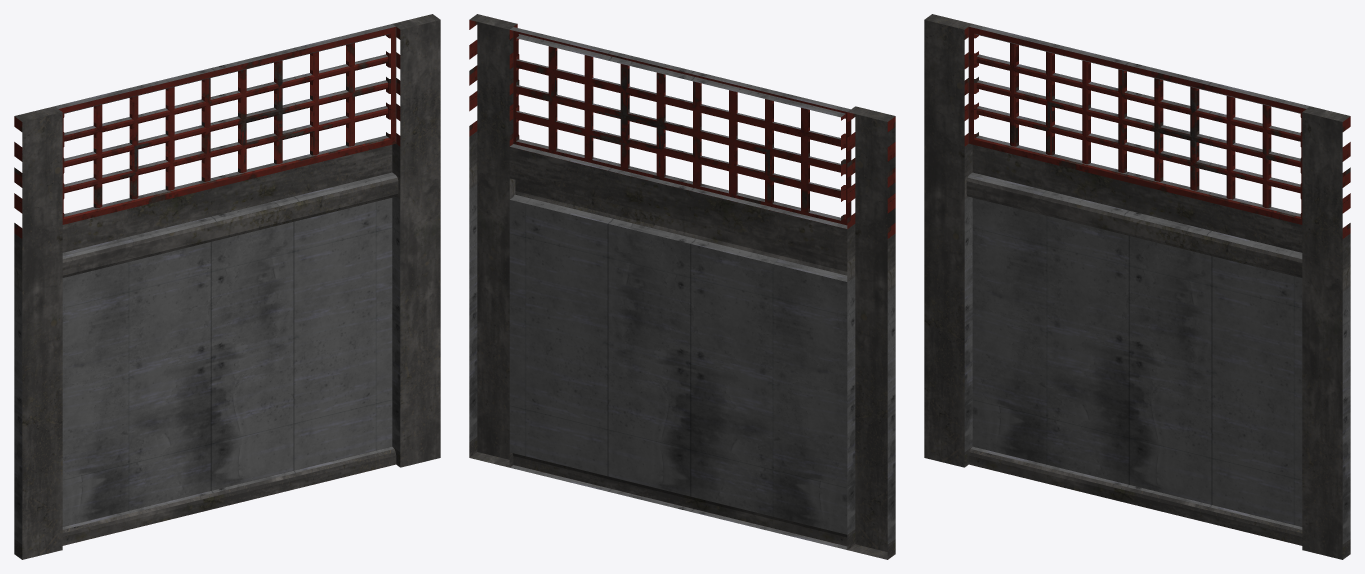
File: Wall_ConcreteWIN.fbx
The picture shows the model from 3 angles, left to right: view 1: azimuth 30°, elevation 25°; view 2: azimuth 150°, elevation 25°; view 3: azimuth 330°, elevation 25°; orthographic projection.
Parts seen in each view (by area): view 1: Wall_blank_windowed; view 2: Wall_blank_windowed; view 3: Wall_blank_windowed.
Part boxes in pixels (bbox=[...]): Wall_blank_windowed: bbox=[14, 14, 440, 559]; Wall_blank_windowed: bbox=[469, 14, 895, 559]; Wall_blank_windowed: bbox=[924, 14, 1350, 559].
Bounding box in the file's own units: 919 × 919 × 30.57.
1 material, 1 textured.
